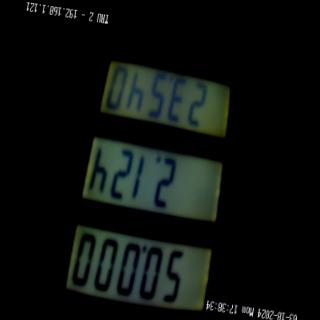screen: (54, 20, 249, 320)
